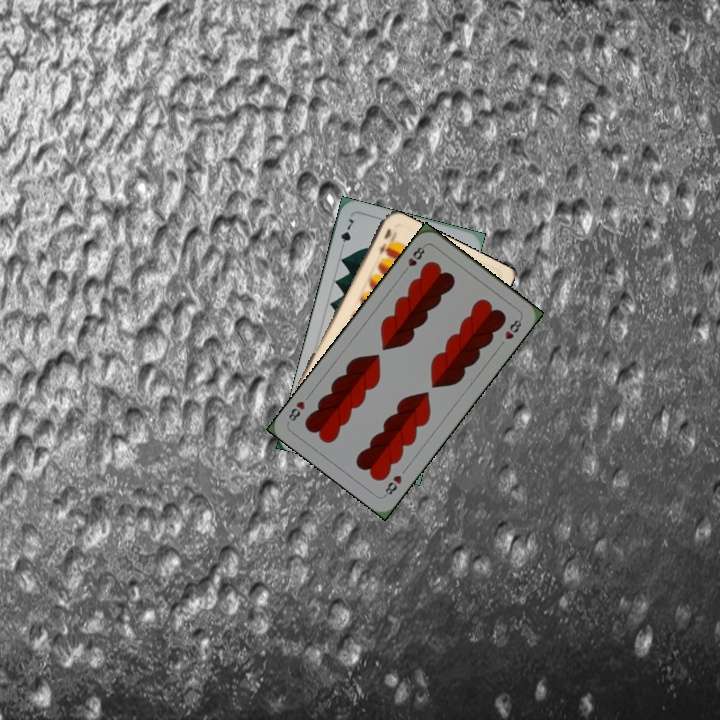E10: (375, 224, 394, 258)
G7: (336, 215, 358, 253)
H8: (399, 241, 428, 276), (380, 471, 405, 499)
